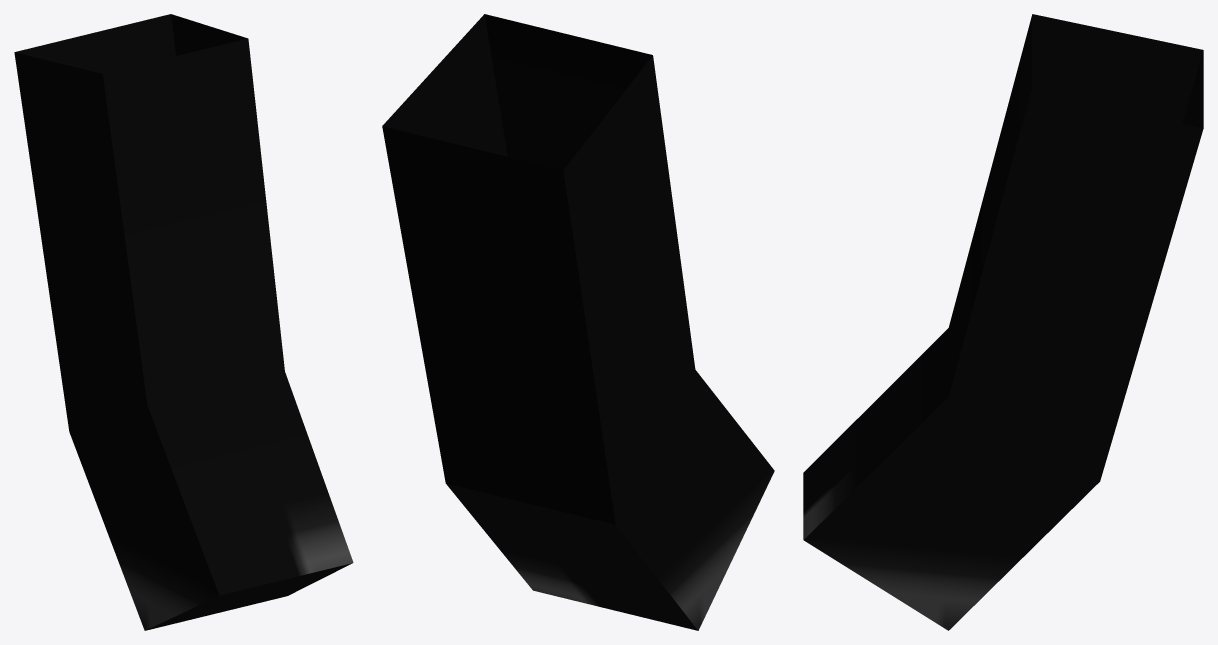
Rendered from mp5clip.fbx.
3 views of the same model, side by side, from view 1: azimuth 30°, elevation 25°; view 2: azimuth 150°, elevation 25°; view 3: azimuth 270°, elevation 25° (orthographic). The views are drawn at different scales.
Parts seen in each view (by area): view 1: MP5; view 2: MP5; view 3: MP5.
Part boxes in pixels (left/top/right/bottom): MP5: left=14, top=14, right=353, bottom=630; MP5: left=382, top=14, right=774, bottom=630; MP5: left=803, top=14, right=1203, bottom=630.
Bounding box in the file's own units: 8.55 × 27.53 × 18.33.
